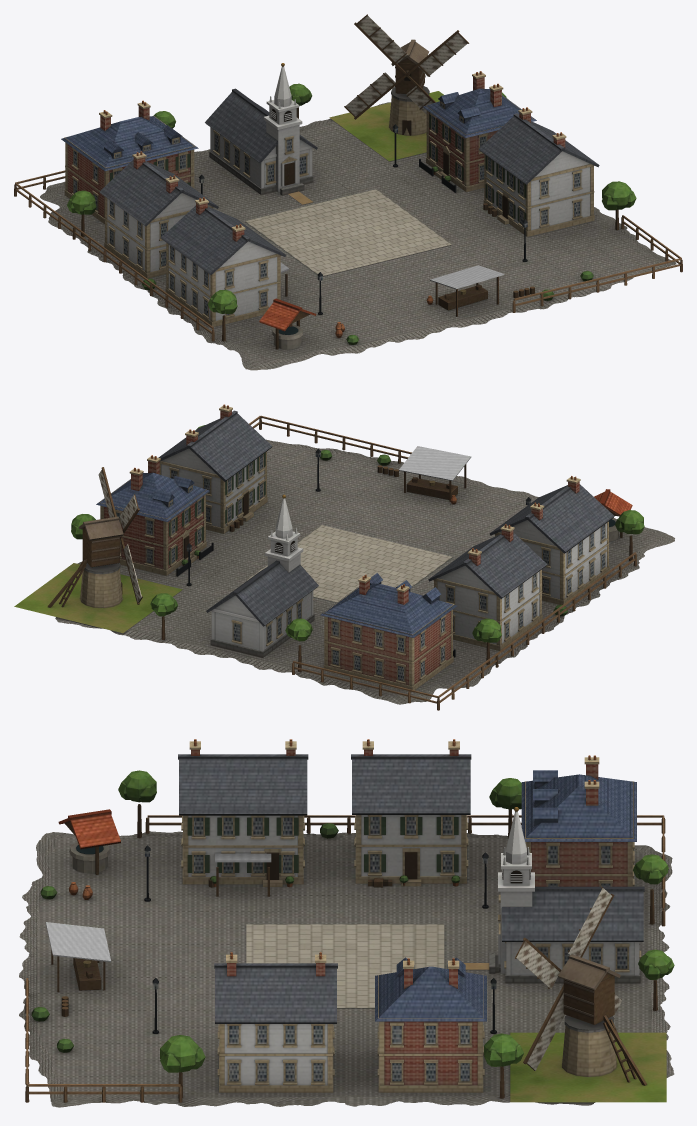
Rendered from gunpowder-town-small-b-colonies.glb.
The picture shows the model from 3 angles, top to bottom: view 1: azimuth 30°, elevation 25°; view 2: azimuth 150°, elevation 25°; view 3: azimuth 270°, elevation 25°; orthographic projection. The views are drawn at different scales.
Parts seen in each view (by area): view 1: LOD0; view 2: LOD0; view 3: LOD0.
Part boxes in pixels (x1=…): LOD0: x1=14, y1=14, x2=682, y2=370; LOD0: x1=14, y1=404, x2=674, y2=710; LOD0: x1=19, y1=739, x2=674, y2=1107.
Size of what is drawn, in the model's own units: 4.02 by 1.1 by 4.06.
3 materials, 3 textured.
